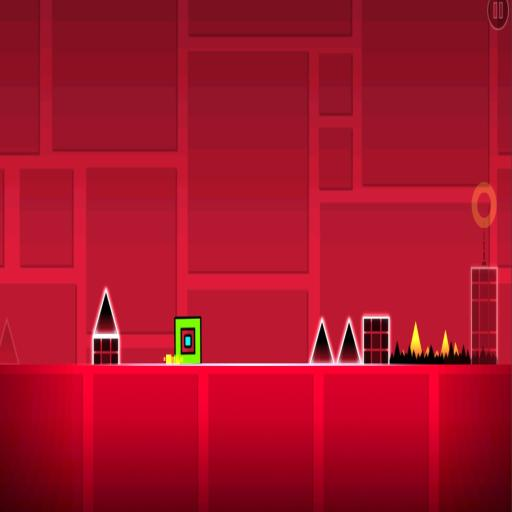block: (470, 265, 500, 364), (360, 314, 392, 366), (91, 330, 122, 371)
player: (175, 317, 201, 363)
spike: (94, 289, 118, 336), (309, 318, 334, 363), (337, 317, 361, 363), (0, 320, 19, 363), (410, 322, 422, 356), (440, 330, 449, 356), (454, 342, 459, 354), (425, 347, 429, 356), (435, 351, 438, 357), (402, 350, 404, 356)
